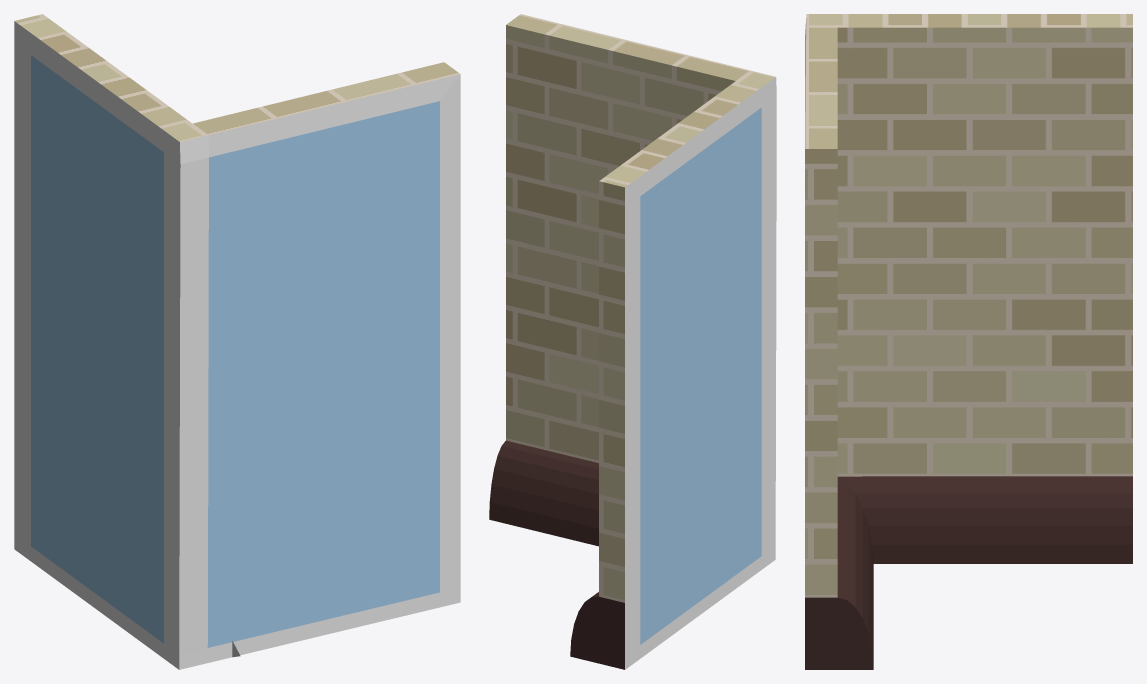
Rendered from Corner A.fbx.
3 views of the same model, side by side, from view 1: azimuth 30°, elevation 25°; view 2: azimuth 150°, elevation 25°; view 3: azimuth 270°, elevation 25° (orthographic). The views are drawn at different scales.
Visible parts, largest first — view 1: Corner A; view 2: Corner A; view 3: Corner A.
Part boxes in pixels (x1=…): Corner A: x1=14, y1=14, x2=460, y2=669; Corner A: x1=489, y1=14, x2=776, y2=669; Corner A: x1=805, y1=14, x2=1132, y2=669.
Size of the model in its own units: 400 by 721 by 411.
